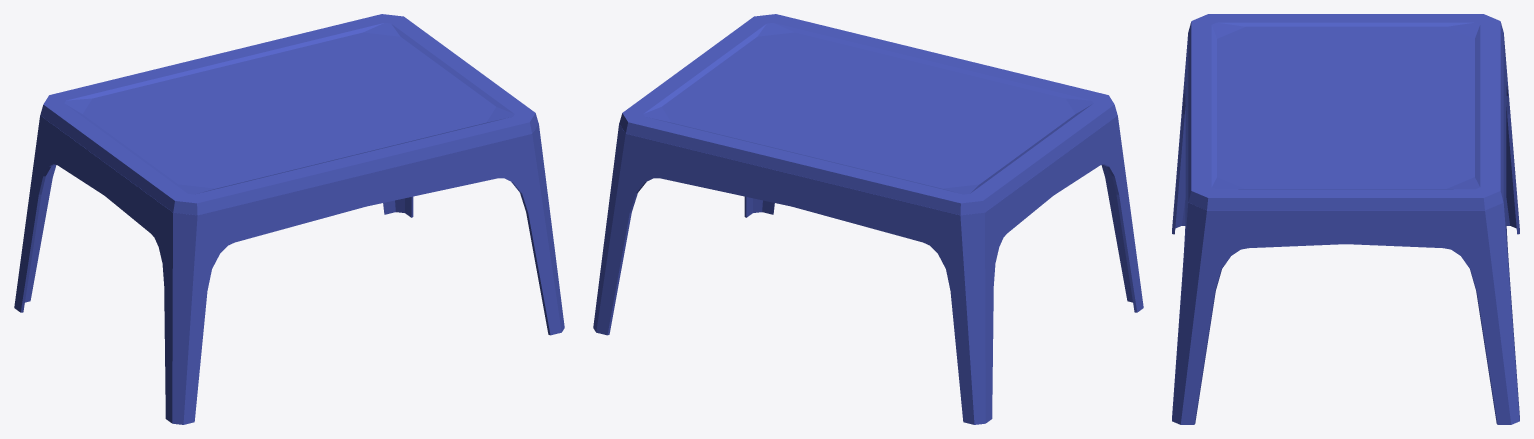
The model's file is SM_Furniture_TableLow_Rectangular_Blue_01.obj.
3 renders of one model, left to right at view 1: azimuth 30°, elevation 25°; view 2: azimuth 150°, elevation 25°; view 3: azimuth 270°, elevation 25°, orthographic. The views are drawn at different scales.
Parts seen in each view (by area): view 1: SM_Furniture_TableLow_Rectangular_Blue_01; view 2: SM_Furniture_TableLow_Rectangular_Blue_01; view 3: SM_Furniture_TableLow_Rectangular_Blue_01.
Boxes of the visible parts, x1,y1,x2,y2 form: SM_Furniture_TableLow_Rectangular_Blue_01: (14,14,564,424); SM_Furniture_TableLow_Rectangular_Blue_01: (593,14,1143,424); SM_Furniture_TableLow_Rectangular_Blue_01: (1172,14,1519,424).
Bounding box in the file's own units: 0.8832 × 0.45 × 0.648.
1 material, 1 textured.
